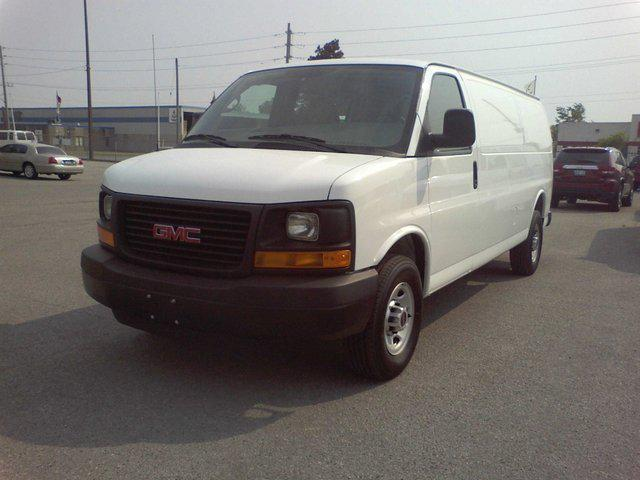Car: (548, 138, 640, 229), (1, 114, 88, 204)
